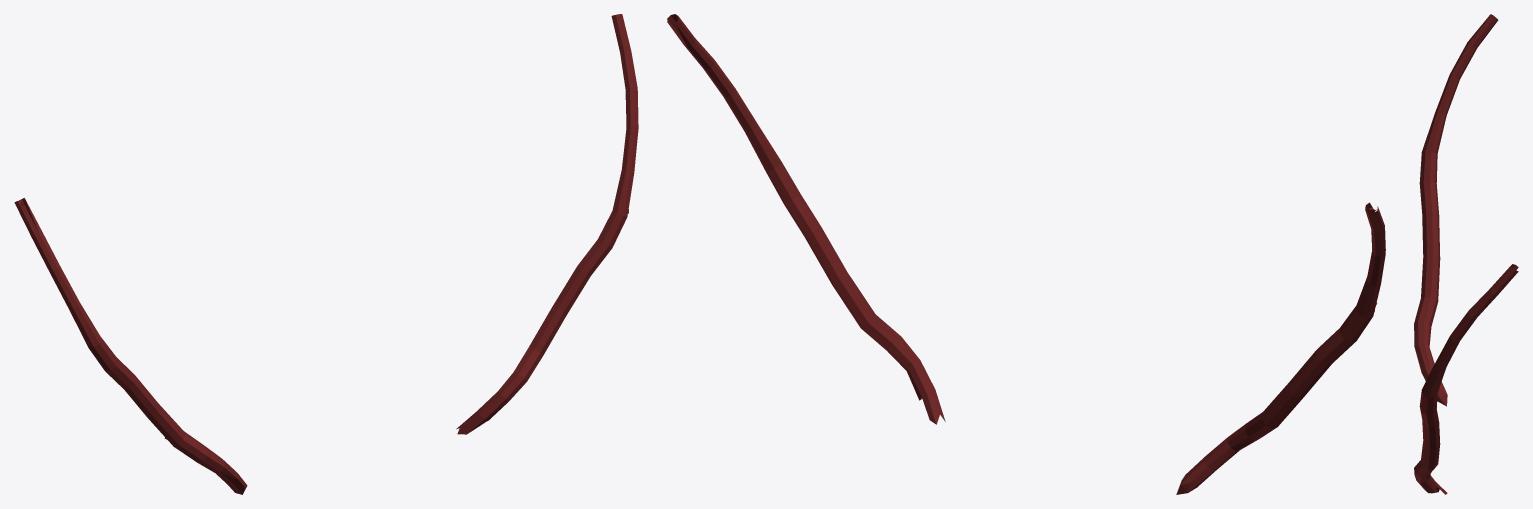
Rendered from Artéria Temporal Superior.FBX.
3 views of the same model, side by side, from view 1: azimuth 30°, elevation 25°; view 2: azimuth 150°, elevation 25°; view 3: azimuth 270°, elevation 25° (orthographic). The views are drawn at different scales.
Visible parts, largest first — view 1: CS_Arterie; view 2: CS_Arterie; view 3: CS_Arterie.
Part boxes in pixels (bbox=[...]): CS_Arterie: bbox=[14, 14, 638, 494]; CS_Arterie: bbox=[667, 14, 1385, 494]; CS_Arterie: bbox=[1414, 14, 1518, 494].
Size of the model in its own units: 501 by 272 by 79.02.
